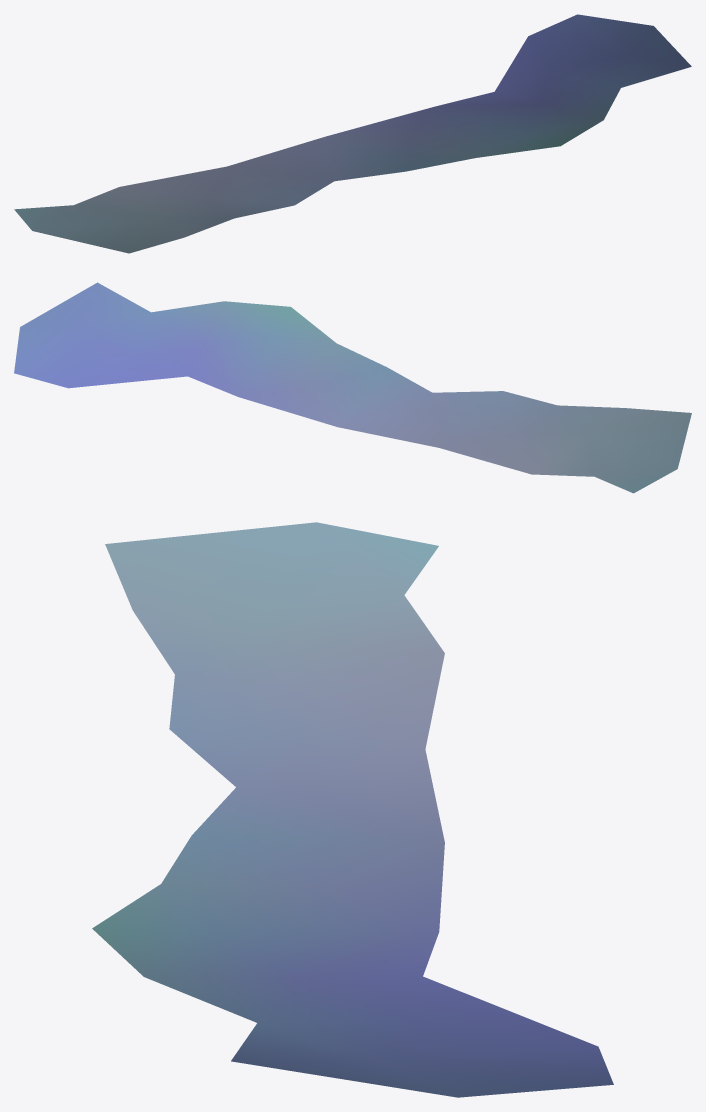
File: space-galaxies-irregular-galaxy_v20.glb
3 views of the same model, one above another, from view 1: azimuth 30°, elevation 25°; view 2: azimuth 150°, elevation 25°; view 3: azimuth 270°, elevation 25° (orthographic). The views are drawn at different scales.
Parts seen in each view (by area): view 1: Irregular Galaxy_v20; view 2: Irregular Galaxy_v20; view 3: Irregular Galaxy_v20.
Part boxes in pixels (bbox=[...]): Irregular Galaxy_v20: bbox=[14, 14, 691, 253]; Irregular Galaxy_v20: bbox=[14, 282, 691, 493]; Irregular Galaxy_v20: bbox=[92, 522, 613, 1097].
Bounding box in the file's own units: 0.5 × 0.0266 × 0.1816.
